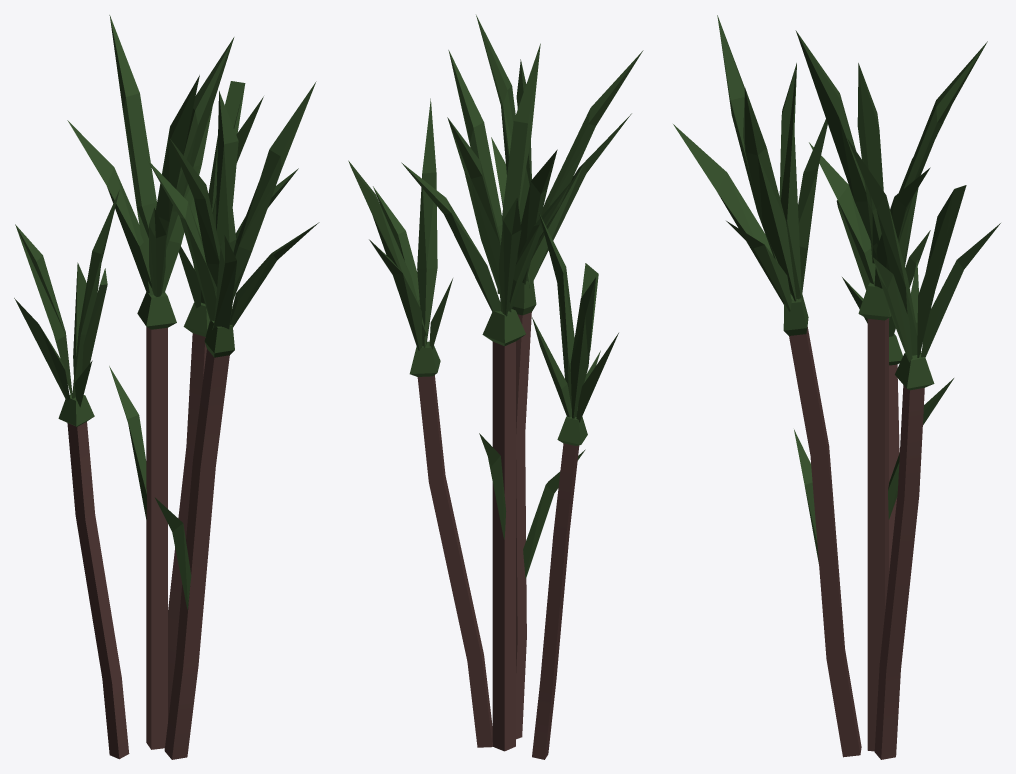
File: SM_Env_SugarCane_02.glb
3 renders of one model, left to right at view 1: azimuth 30°, elevation 25°; view 2: azimuth 150°, elevation 25°; view 3: azimuth 270°, elevation 25°, orthographic. The views are drawn at different scales.
Parts seen in each view (by area): view 1: SM_Env_SugarCane_02; view 2: SM_Env_SugarCane_02; view 3: SM_Env_SugarCane_02.
Boxes of the visible parts, x1,y1,x2,y2 form: SM_Env_SugarCane_02: [14, 15, 319, 759]; SM_Env_SugarCane_02: [348, 15, 643, 759]; SM_Env_SugarCane_02: [673, 15, 1000, 759].
Bounding box in the file's own units: 0.00863 × 0.0214 × 0.00884.
